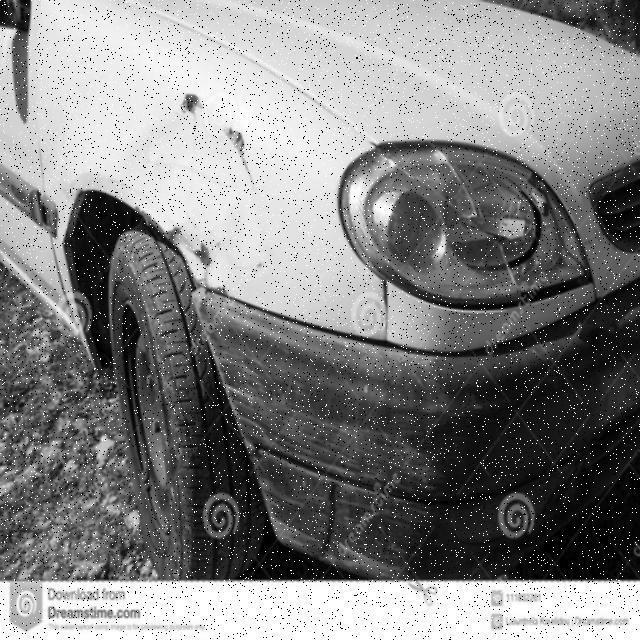Headlight-damage: (326, 127, 600, 329)
fender-dent: (39, 71, 347, 350)
